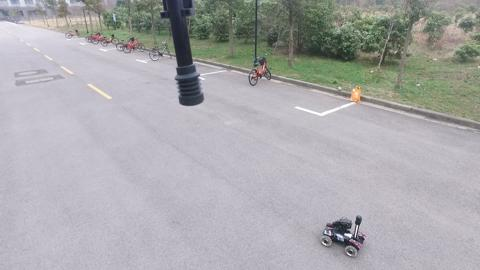chariot: (316, 213, 371, 254)
